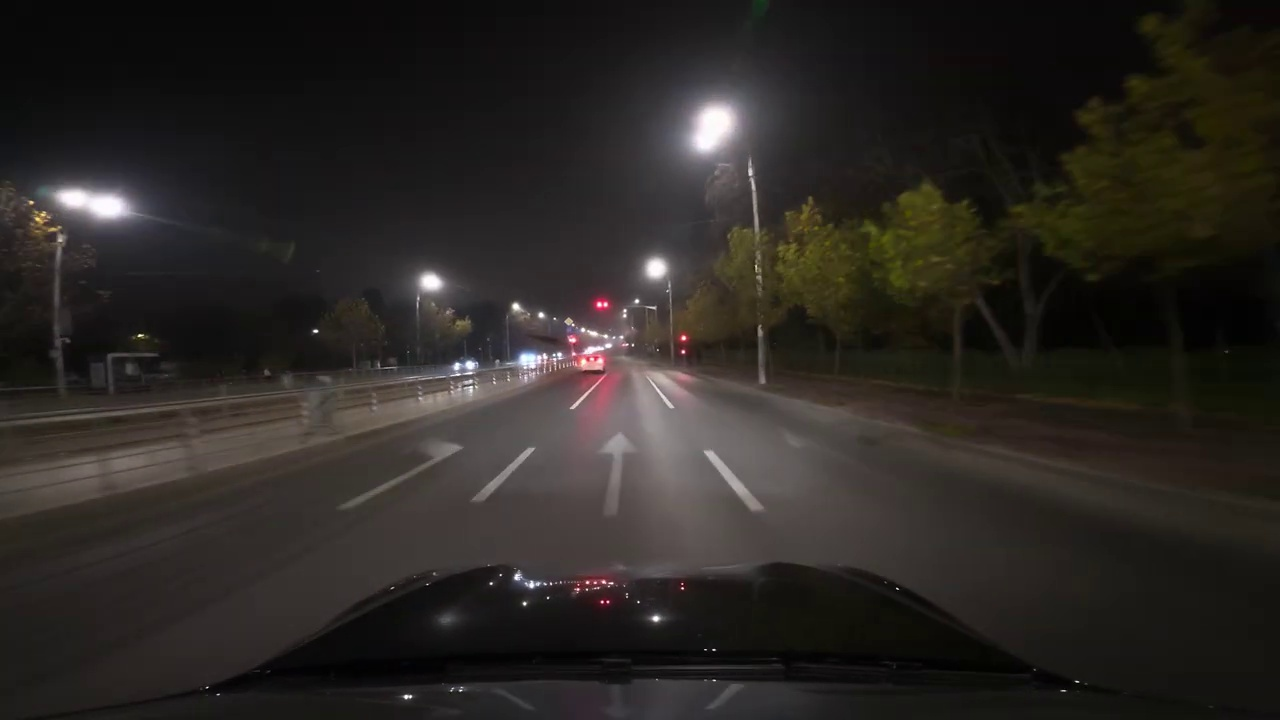acesa: (692, 106, 733, 153), (417, 269, 445, 296), (642, 255, 669, 282)
